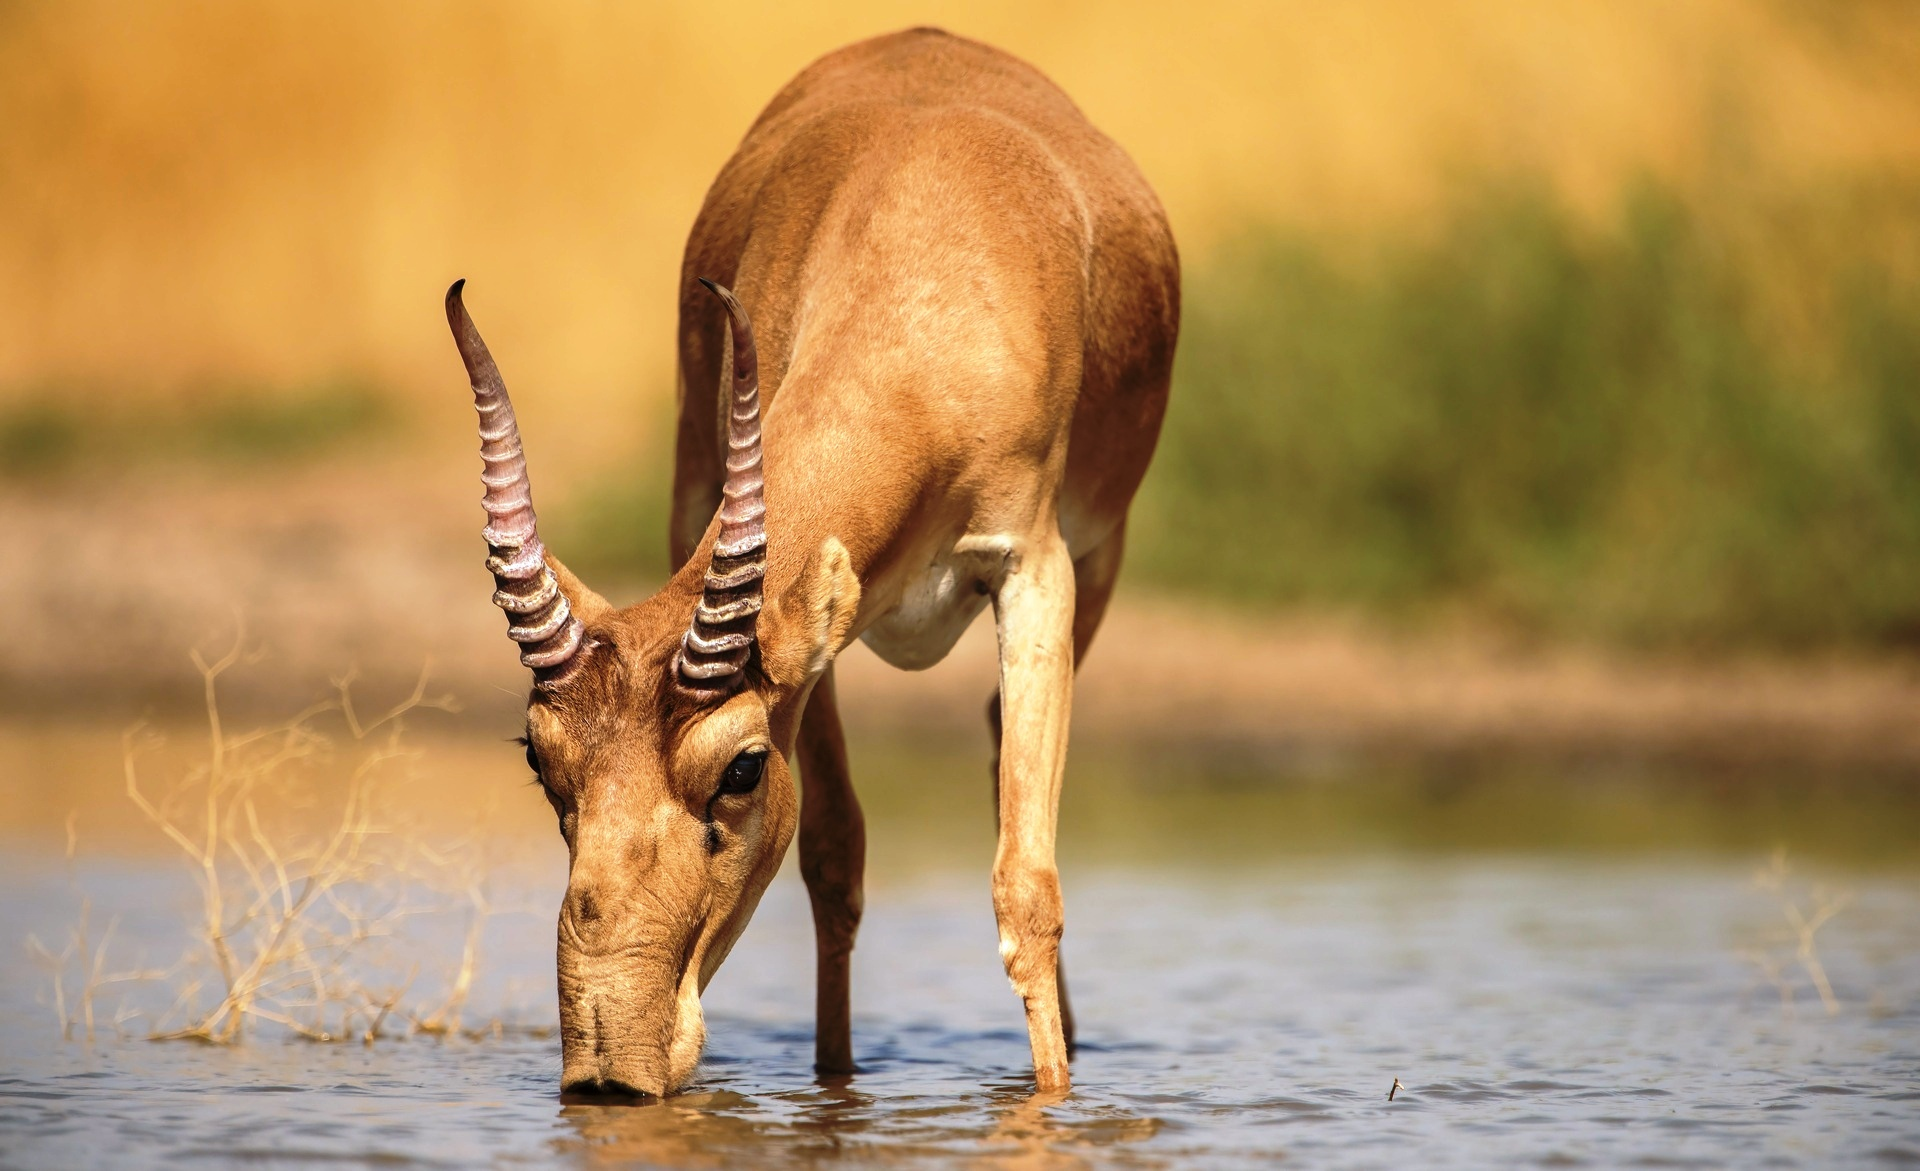saiga: (389, 36, 1237, 1128)
